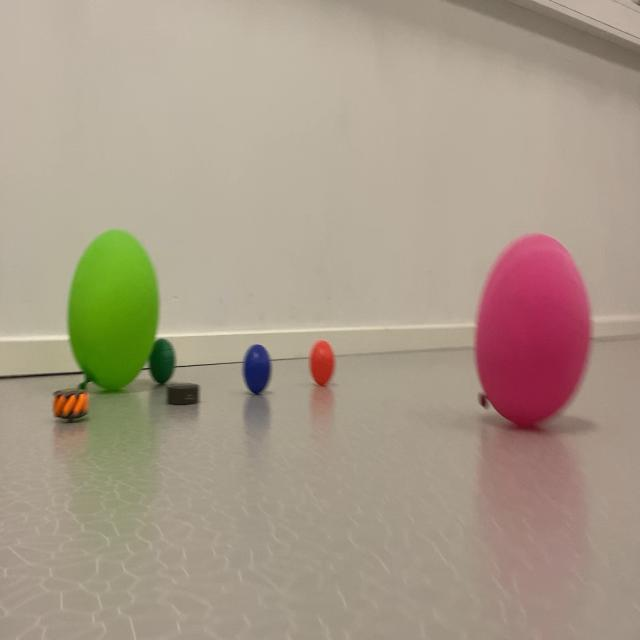7: (295, 306, 348, 430)
green ball: (231, 312, 293, 431)
red ball: (142, 326, 189, 394)
